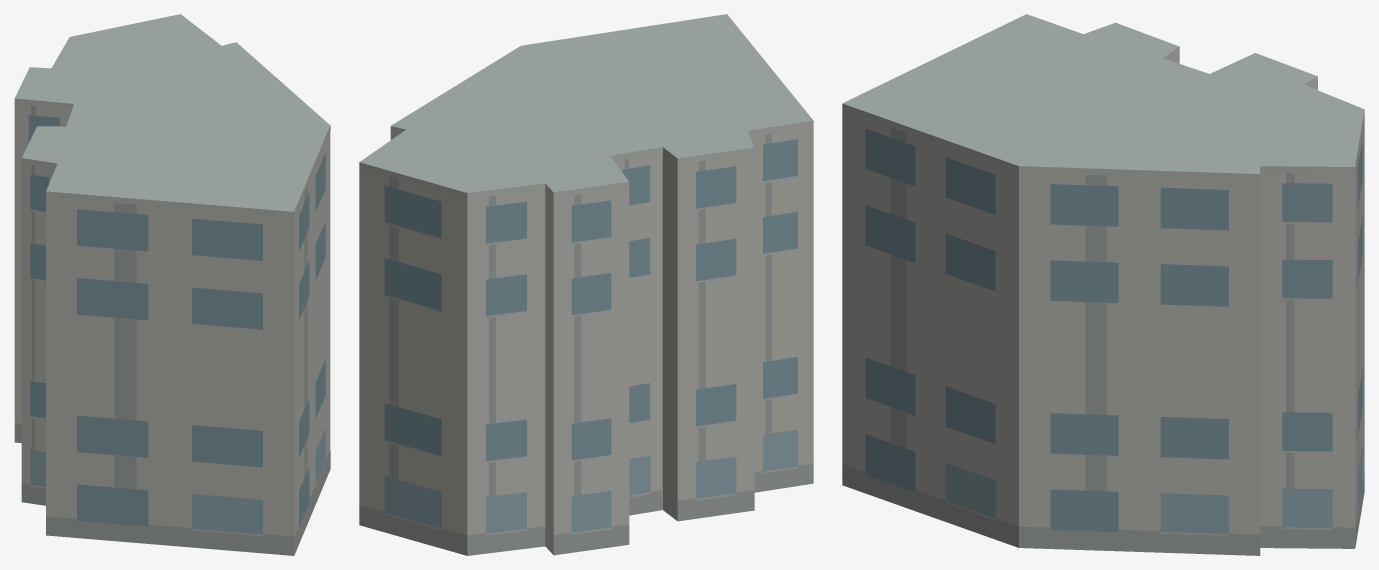
The model's file is survey-upis-32892326.glb.
3 views of the same model, side by side, from view 1: azimuth 30°, elevation 25°; view 2: azimuth 150°, elevation 25°; view 3: azimuth 270°, elevation 25° (orthographic). The views are drawn at different scales.
Visible parts, largest first — view 1: survey-upis-32892326.tmp; view 2: survey-upis-32892326.tmp; view 3: survey-upis-32892326.tmp.
Part boxes in pixels (x1,y1,x2,y2): survey-upis-32892326.tmp: (14,14,330,555); survey-upis-32892326.tmp: (359,14,813,555); survey-upis-32892326.tmp: (842,14,1364,555).
Bounding box in the file's own units: 12.87 × 14.3 × 17.74.
